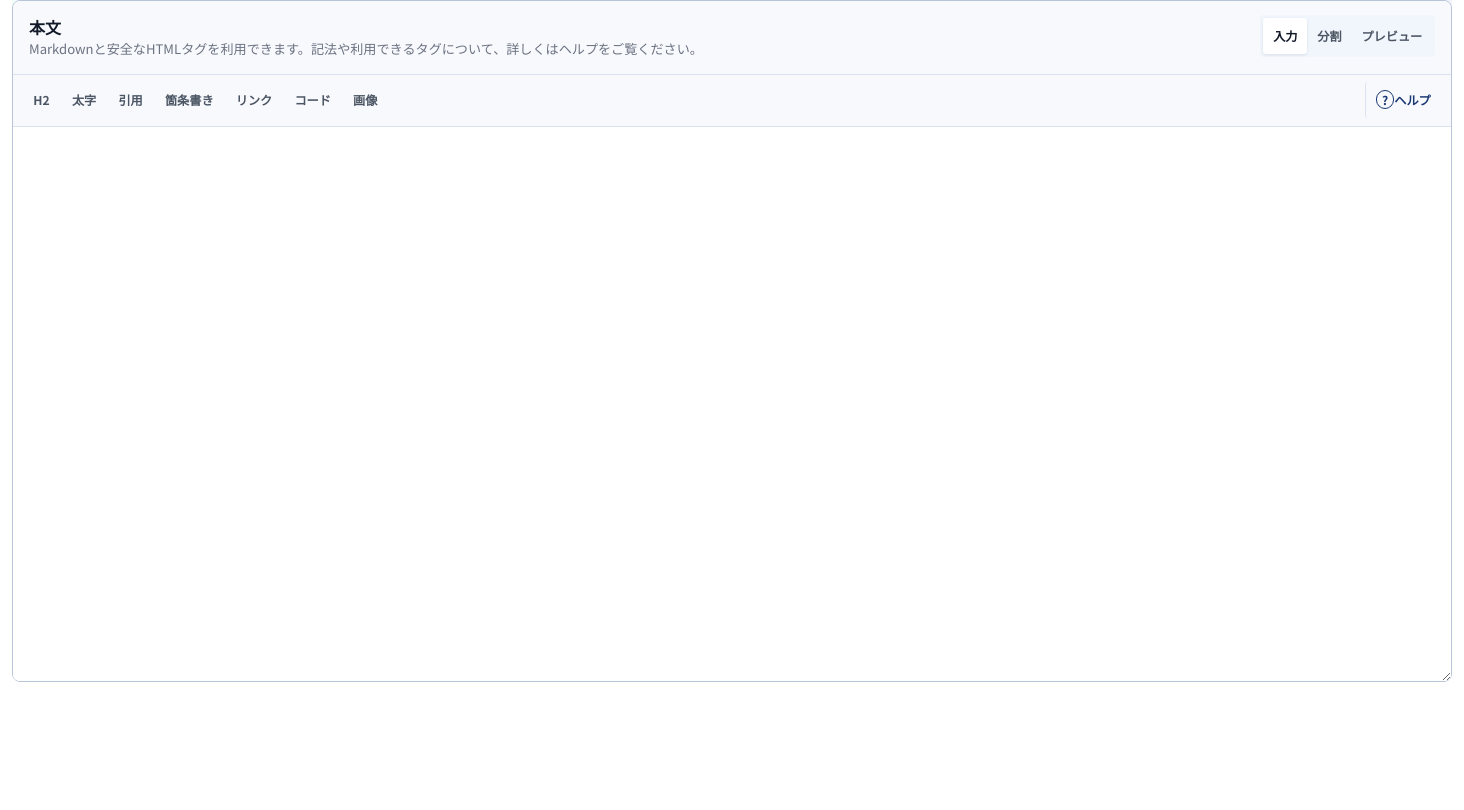
Test: ArticleEditor › accepts a level-two Markdown heading and updates the preview
Click the button "分割".
click(1329, 36)  # box x1=1307 y1=18 x2=1352 y2=54
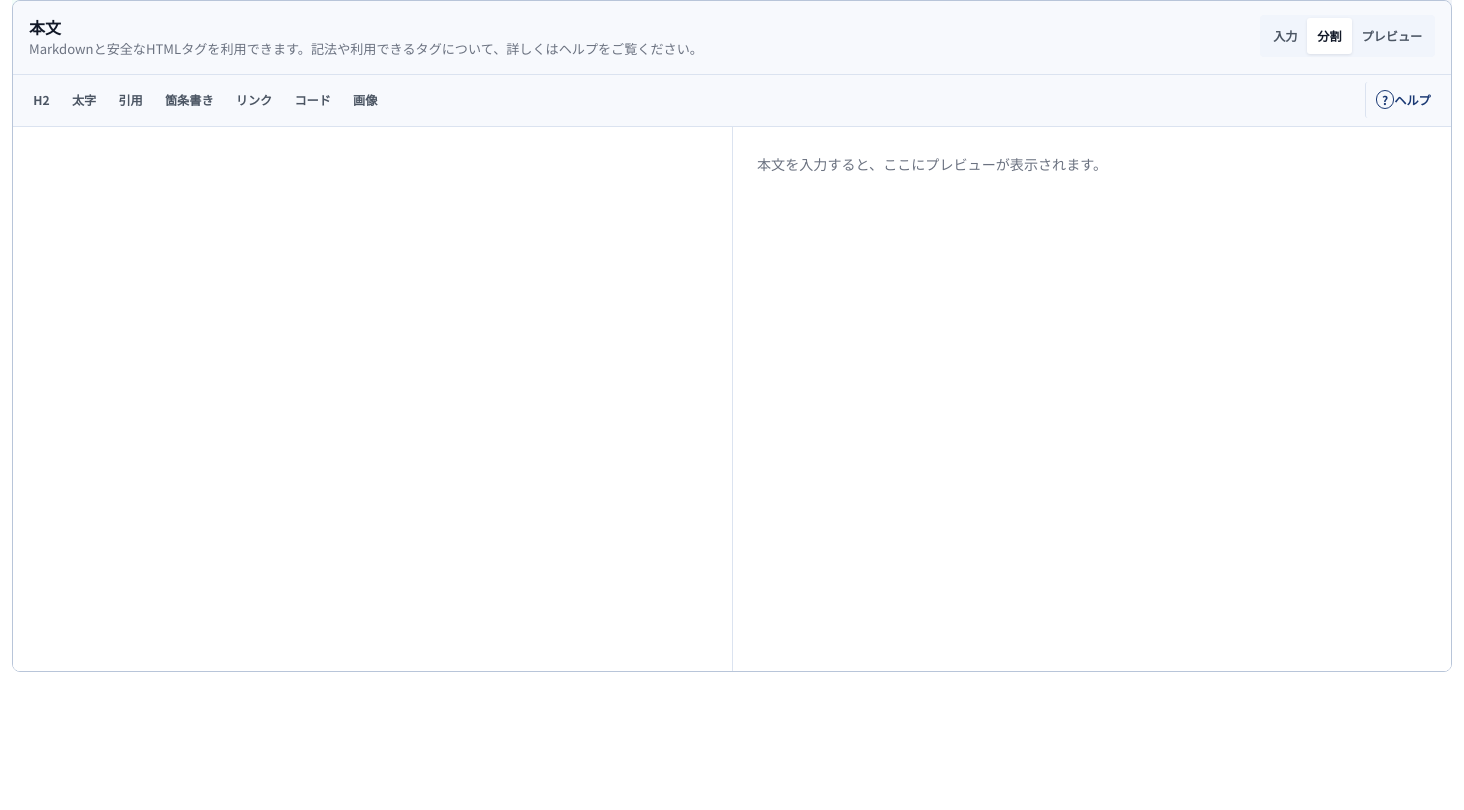
Type "## 見出し" into the text box labelled "本文".
click(372, 398); type("## 見出し")  # box x1=13 y1=126 x2=732 y2=670
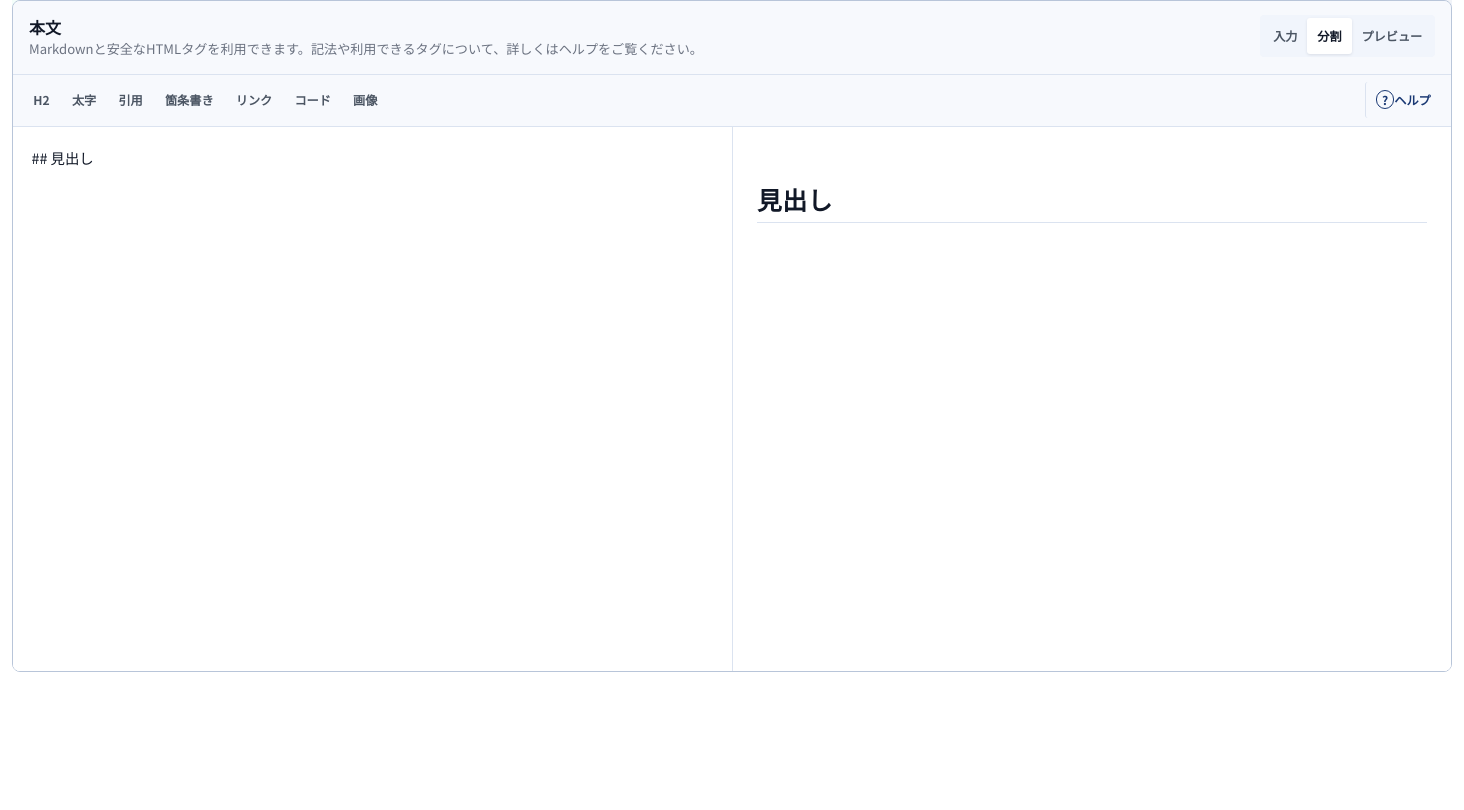
Now the heading "見出し" is shown, box x1=757 y1=182 x2=1427 y2=223
